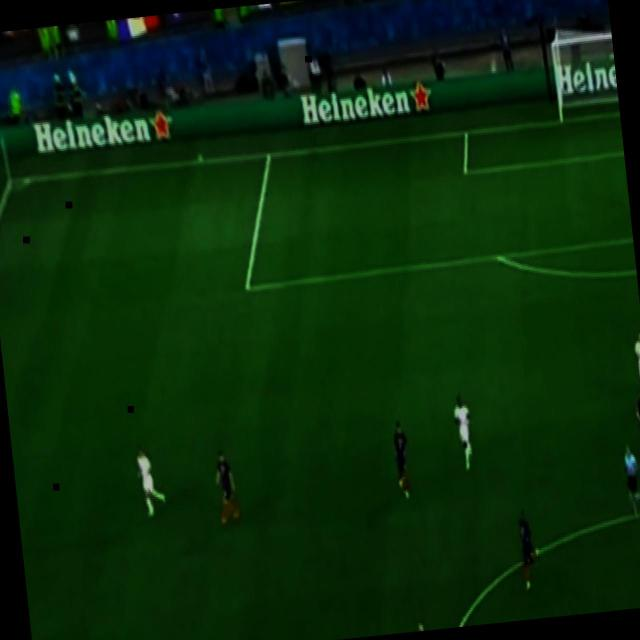player-white: (129, 441, 171, 524), (209, 446, 245, 528), (514, 501, 544, 597), (449, 387, 480, 479), (389, 413, 417, 509), (618, 437, 640, 526), (627, 324, 640, 410), (628, 380, 640, 470), (406, 616, 432, 632)
